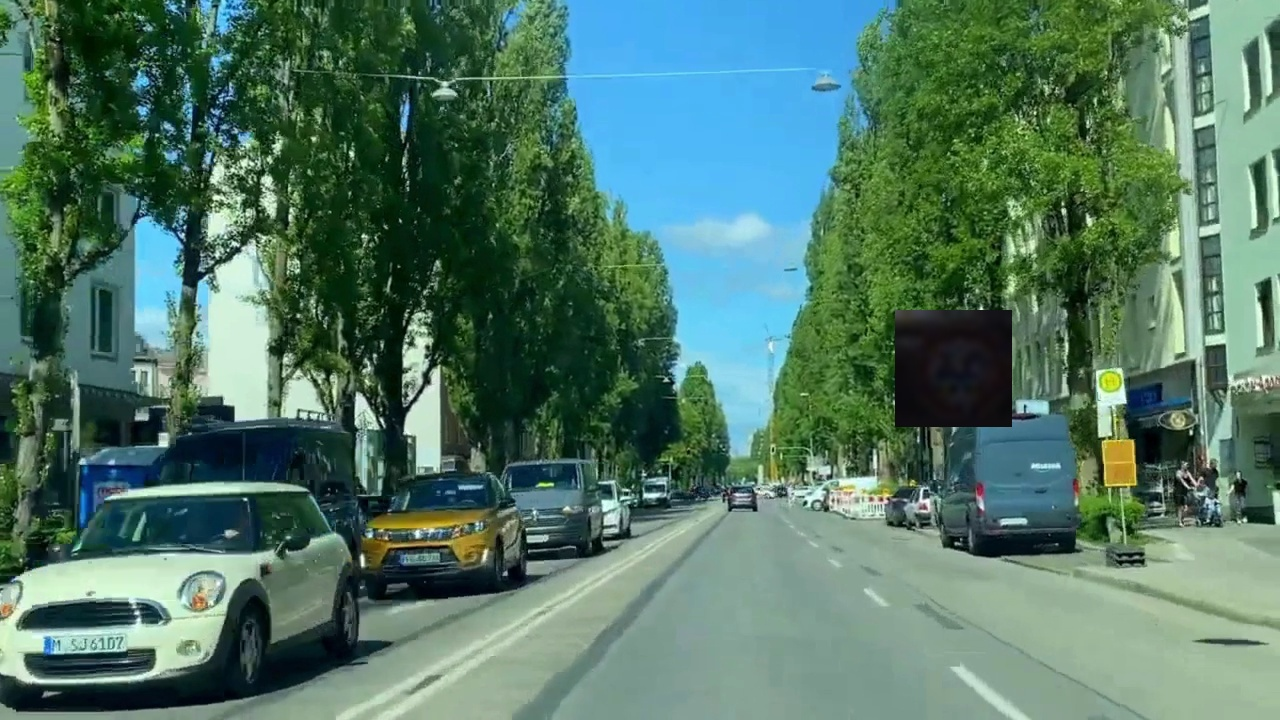Speed 60: (895, 310, 1012, 427)
